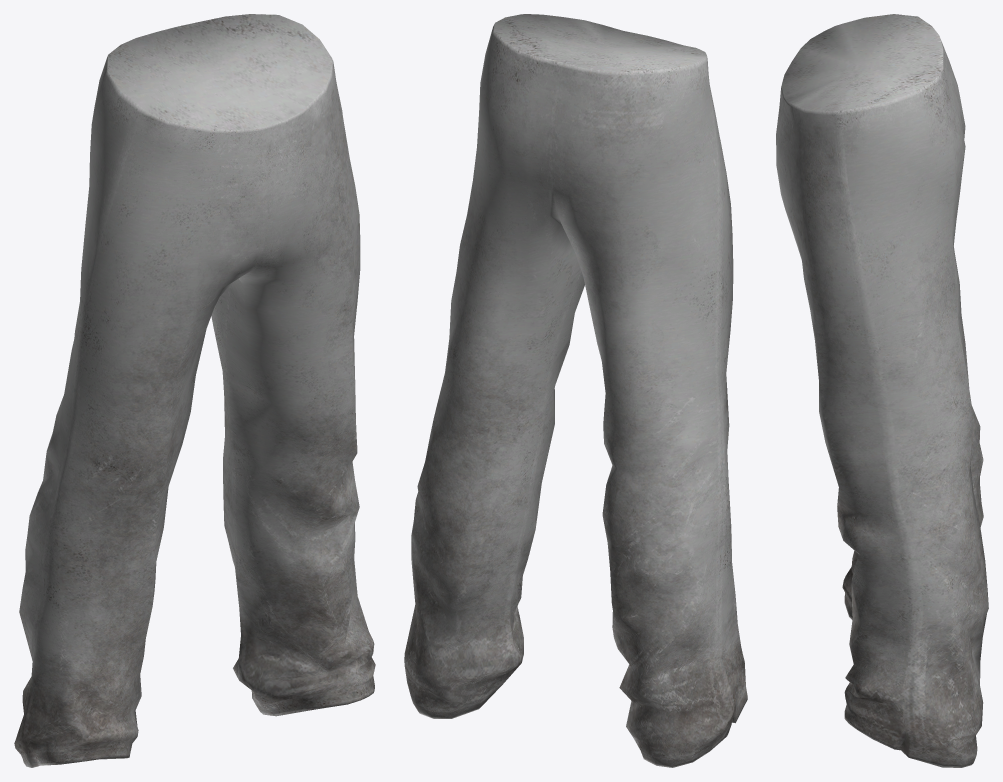
File: SurvivorMale_Legs_Pants_Warmups_LOD0.glb
The picture shows the model from 3 angles, left to right: view 1: azimuth 30°, elevation 25°; view 2: azimuth 150°, elevation 25°; view 3: azimuth 270°, elevation 25°; orthographic projection. The views are drawn at different scales.
Visible parts, largest first — view 1: Hoodie; view 2: Hoodie; view 3: Hoodie.
Part boxes in pixels (bbox=[...]): Hoodie: bbox=[14, 14, 375, 767]; Hoodie: bbox=[404, 14, 747, 767]; Hoodie: bbox=[776, 14, 988, 767].
Bounding box in the file's own units: 0.5312 × 1.07 × 0.317.
1 material, 1 textured.
